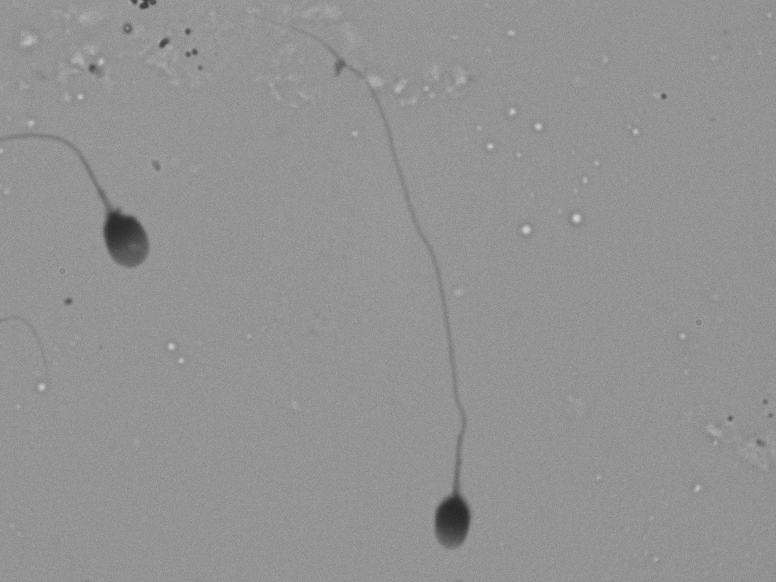Abnormal: (23, 97, 173, 323)
Normal: (284, 30, 522, 565)
